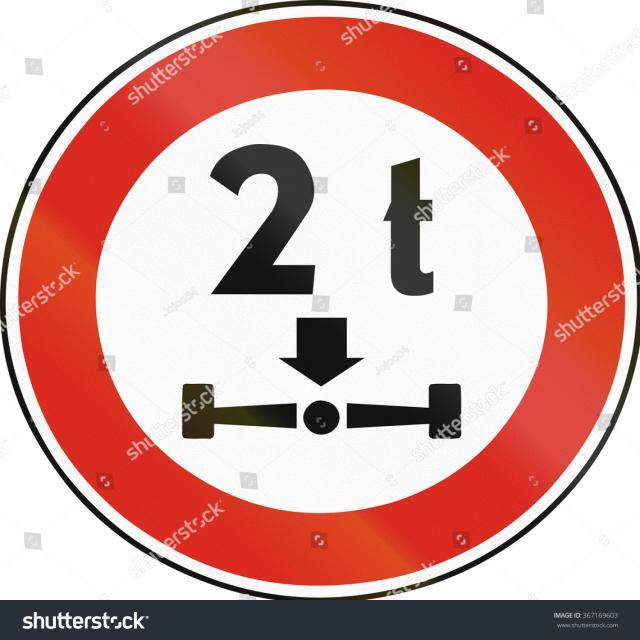axle load limit: (18, 16, 629, 584)
